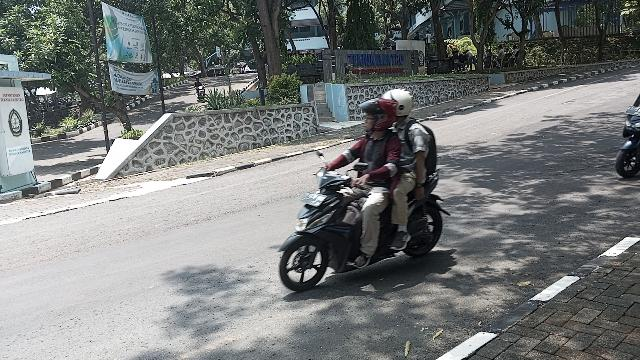helm: (358, 99, 400, 135), (383, 88, 416, 119)
motor: (277, 150, 453, 293)
